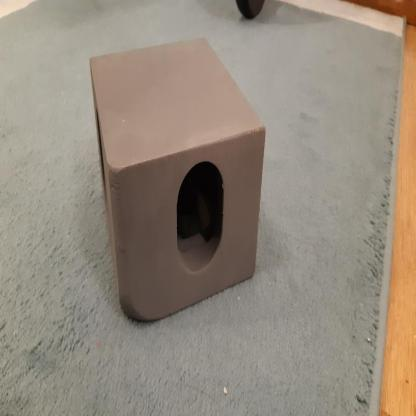CornerCasting: (88, 38, 266, 336)
